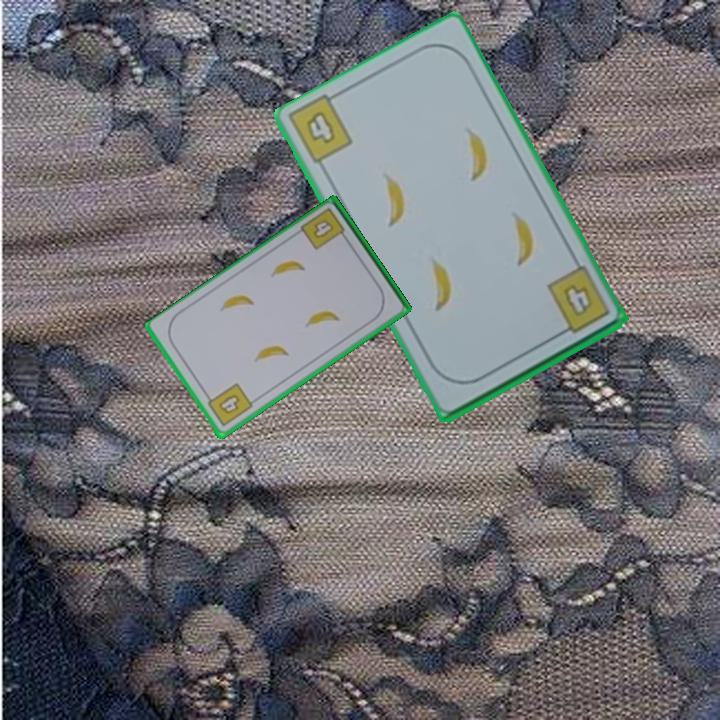4b: (543, 262, 613, 340), (202, 380, 255, 430), (302, 106, 338, 147), (309, 216, 337, 242)
